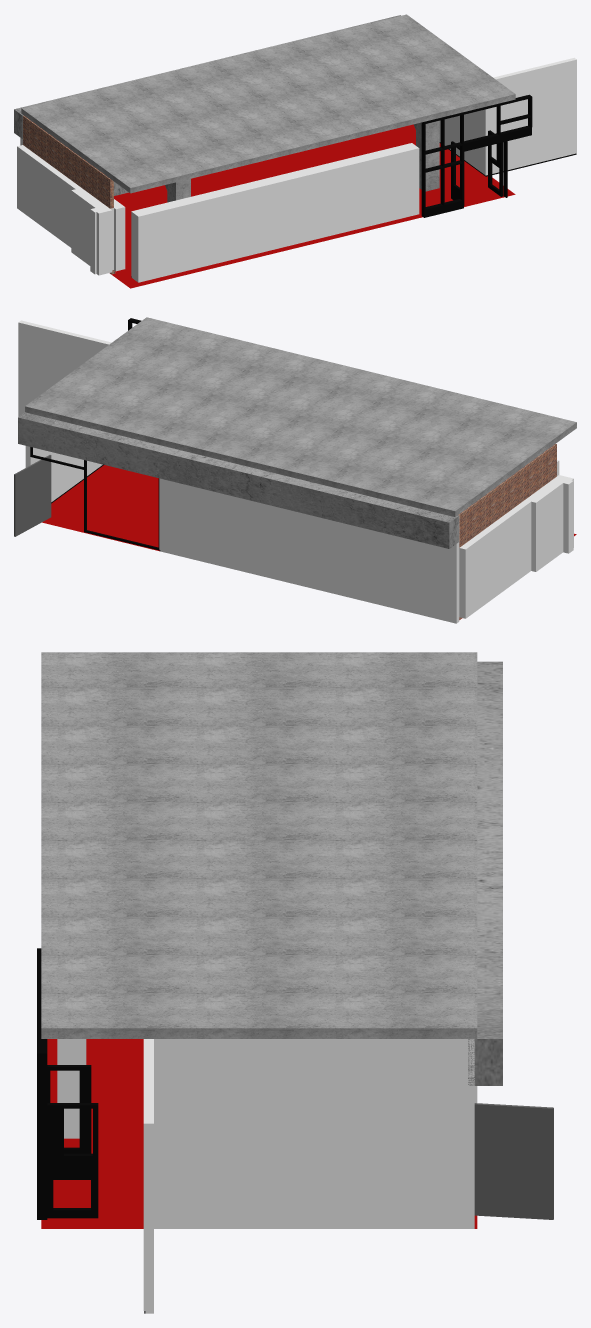
The model's file is Export 1 Shell.fbx.
3 views of the same model, one above another, from view 1: azimuth 30°, elevation 25°; view 2: azimuth 150°, elevation 25°; view 3: azimuth 270°, elevation 25° (orthographic). The views are drawn at different scales.
Parts seen in each view (by area): view 1: Ceiling, Stucco Wall_2, Floor, Metal Frame, Brick Wall_2, concrete; view 2: Ceiling, Stucco Wall_2, concrete, Floor, Brick Wall_2, Metal Door_2, Metal Frame; view 3: Ceiling, Stucco Wall_2, Floor, concrete, Metal Door_2, Metal Frame.
Boxes of the visible parts, left/top/right/bottom form: Ceiling: left=21, top=14, right=515, bottom=193; Stucco Wall_2: left=17, top=57, right=576, bottom=282; Floor: left=110, top=124, right=515, bottom=288; Metal Frame: left=131, top=94, right=576, bottom=277; Brick Wall_2: left=23, top=115, right=115, bottom=274; concrete: left=14, top=15, right=439, bottom=202; Ceiling: left=25, top=317, right=576, bottom=516; Stucco Wall_2: left=18, top=320, right=573, bottom=623; concrete: left=18, top=412, right=458, bottom=548; Floor: left=42, top=465, right=576, bottom=619; Brick Wall_2: left=458, top=444, right=556, bottom=619; Metal Door_2: left=14, top=455, right=51, bottom=536; Metal Frame: left=30, top=318, right=160, bottom=550; Ceiling: left=41, top=652, right=477, bottom=1038; Stucco Wall_2: left=57, top=1039, right=477, bottom=1313; Floor: left=41, top=1039, right=477, bottom=1228; concrete: left=468, top=661, right=502, bottom=1085; Metal Door_2: left=474, top=1103, right=553, bottom=1219; Metal Frame: left=37, top=948, right=145, bottom=1313.
Size of the model in its own units: 774 by 355 by 152.
Materials: 7 (2 with a texture image).
